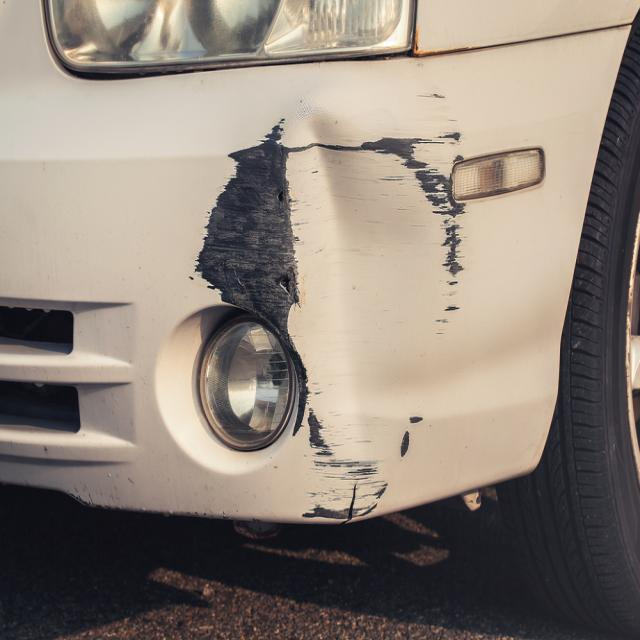Cabossage: (280, 103, 396, 458)
Dechirure: (346, 467, 361, 534)
Rayure: (194, 76, 455, 519)
